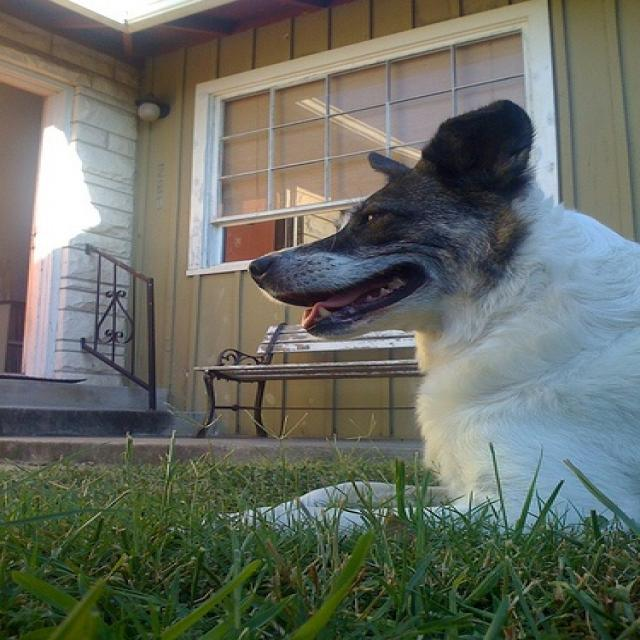dog: (205, 95, 638, 540)
